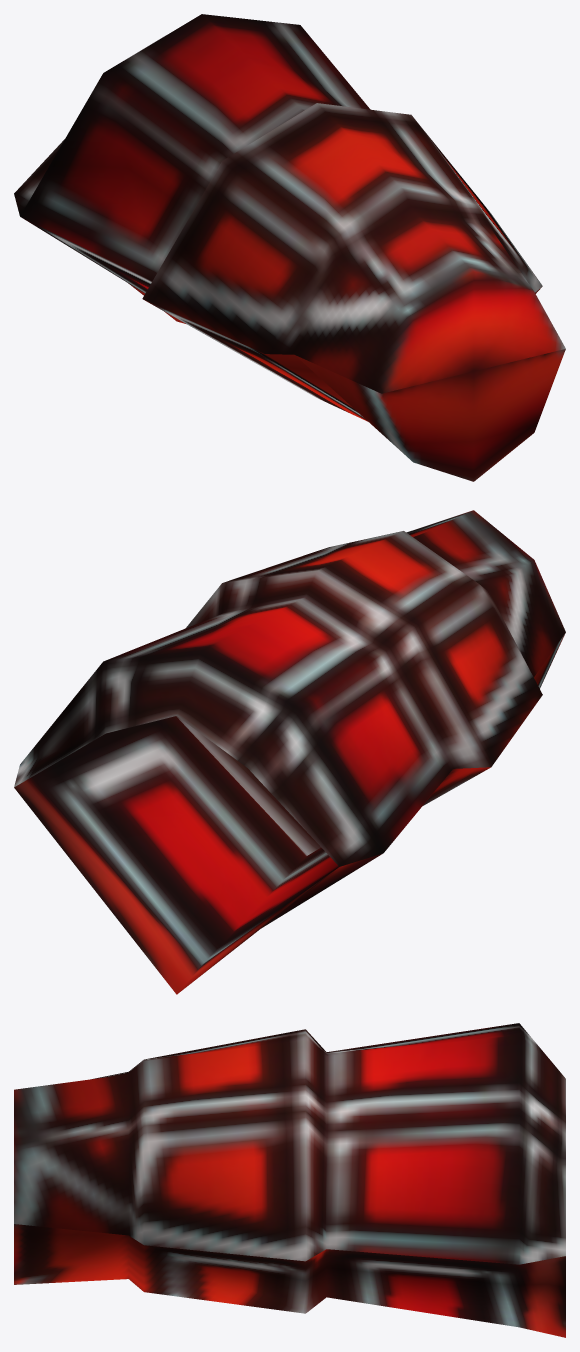
The model's file is Boss1Cannon.fbx.
3 renders of one model, top to bottom at view 1: azimuth 30°, elevation 25°; view 2: azimuth 150°, elevation 25°; view 3: azimuth 270°, elevation 25°, orthographic. The views are drawn at different scales.
Parts seen in each view (by area): view 1: Mesh; view 2: Mesh; view 3: Mesh.
Boxes of the visible parts, x1,y1,x2,y2 form: Mesh: (14, 14, 565, 481); Mesh: (14, 510, 565, 994); Mesh: (14, 1023, 565, 1337).
Size of the model in its own units: 1.55 by 1.33 by 2.19.
1 material, 1 textured.
